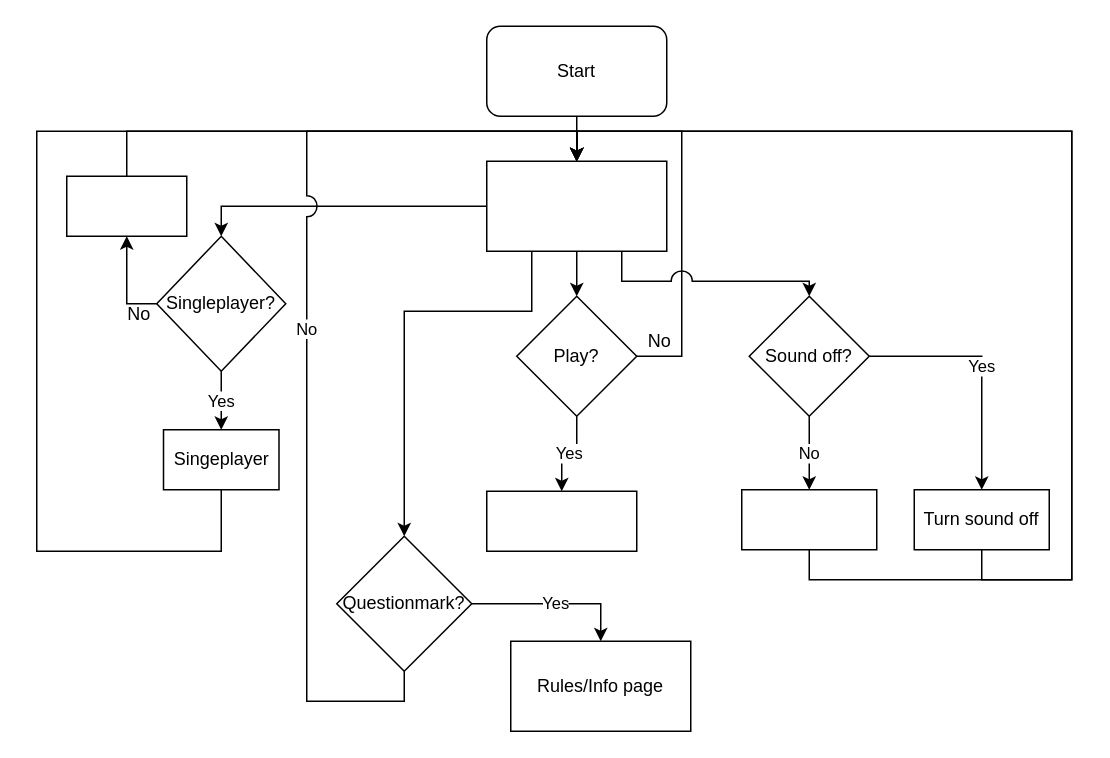
Image size: 1110x758. Some labels were removed from this diagram. The centre of each missing label's shape, as x and y in pixels:
"Keep sound on" goes at pixel 808 519.
"Loading game" goes at pixel 561 520.
"Main Menu" goes at pixel 576 205.
"Multiplayer" goes at pixel 126 205.
